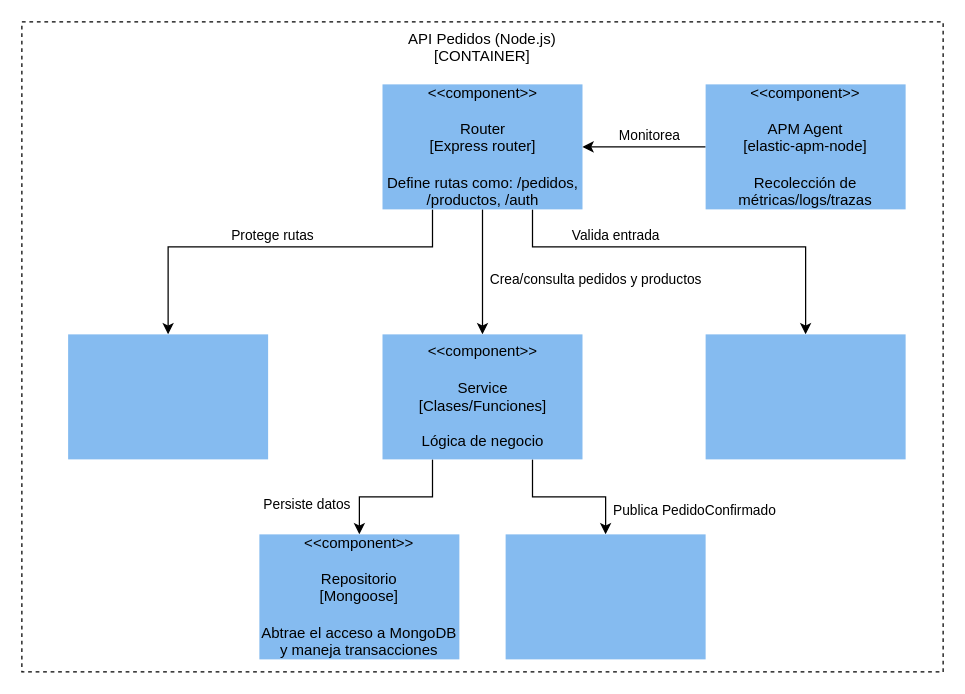
Image size: 965x694. Some labels were removed from this diagram. The shapes that lost their labels are listed below. From the top down, each one's centre as x and y in pixels, then its label:
point (168, 396): <<component>> Auth Middleware [Express router] Valida el JWT en headers (Oauth2)
point (805, 396): <<component>> Validation Layer [Zod] Valida los schemas de entrada (body/params)
point (605, 596): <<component>> RabitMQ Publisher [amqplib] Publica el evento PedidoConfirmado
